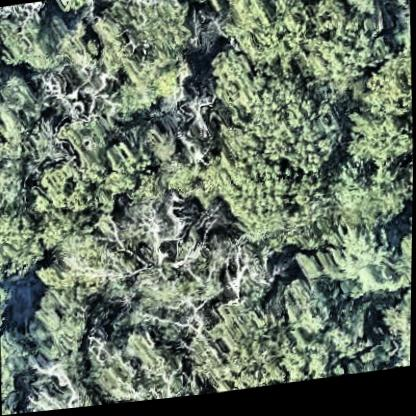tree-top: (222, 81, 342, 251), (221, 283, 331, 397), (92, 0, 190, 122), (89, 316, 197, 408), (293, 230, 403, 311), (341, 59, 413, 181), (41, 144, 121, 250), (226, 0, 320, 73), (155, 134, 227, 216), (325, 173, 412, 237), (325, 14, 394, 82), (0, 18, 71, 78), (0, 205, 51, 286), (0, 72, 44, 159), (330, 313, 378, 367), (381, 300, 412, 377), (329, 0, 396, 26)
